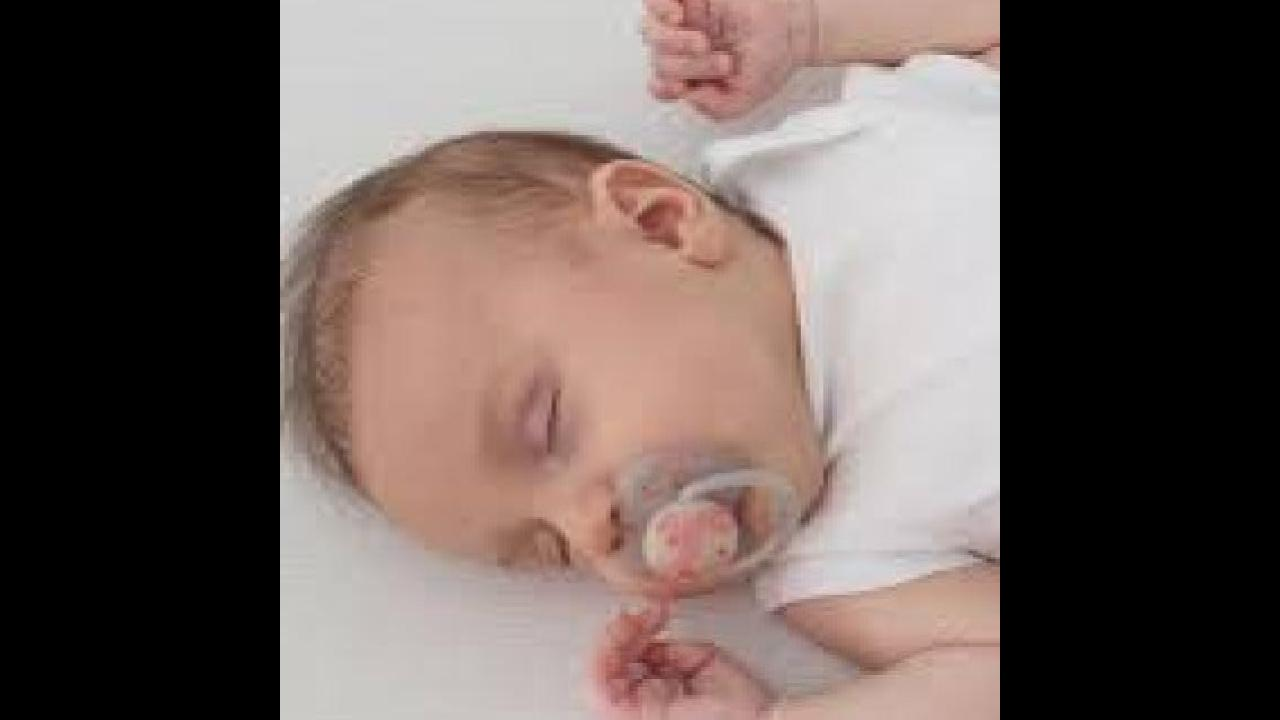hand: (634, 0, 802, 133), (584, 613, 781, 720)
